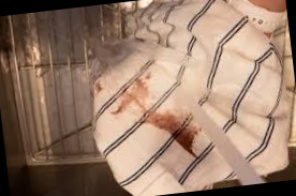wine: (145, 106, 207, 161), (104, 84, 159, 115), (91, 81, 109, 97)
